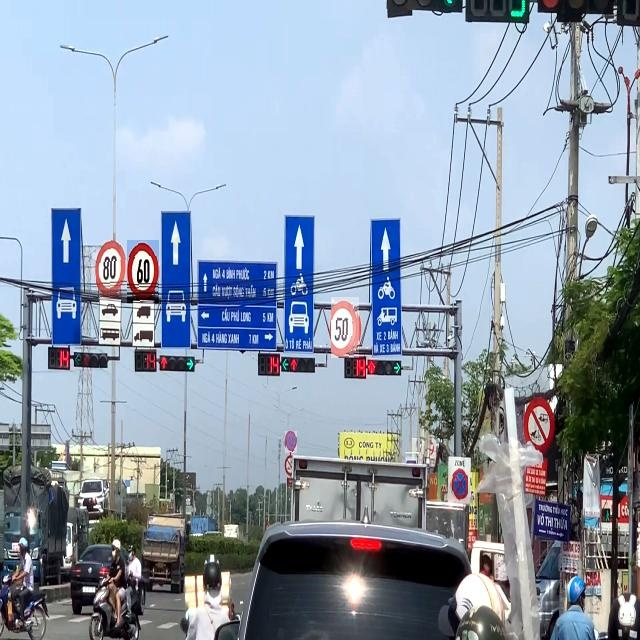bien_cam: (128, 240, 160, 303), (96, 240, 128, 299), (332, 297, 359, 358), (450, 468, 468, 501), (285, 432, 297, 454)
